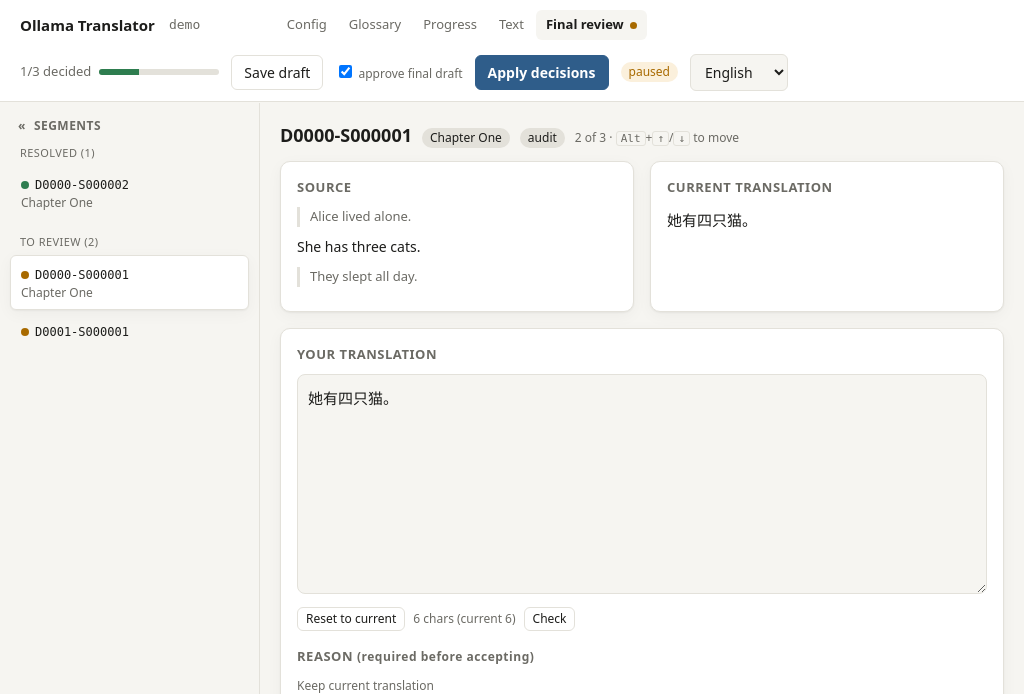
Test case: Final review tab › the queue › opens the segment picked in the sidebar and scrolls back to the top
Check: the heading "Your translation" is shown, box x1=297 y1=344 x2=437 y2=362
Click the button "D0001-S000001". click: (130, 330)
box: x1=10 y1=311 x2=249 y2=348
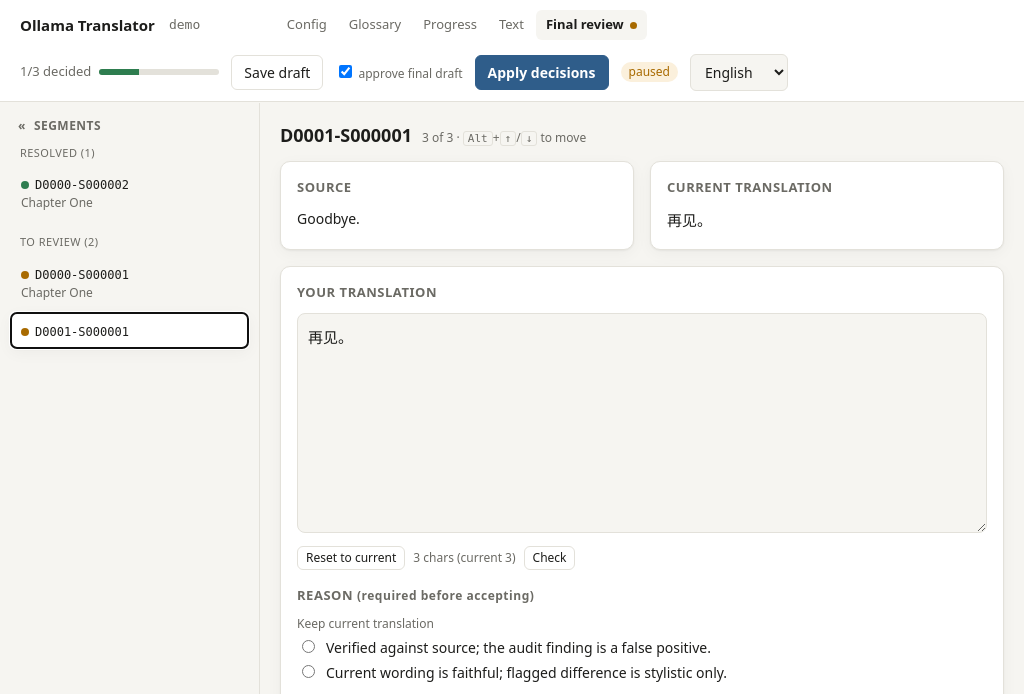
Check: the text "D0001-S000001" below "To review (2)" is shown, box x1=35 y1=324 x2=129 y2=338
Check: the text box holds "再见。", box x1=297 y1=313 x2=987 y2=533
Check: the element "Source" reads "Source Goodbye.", box x1=280 y1=160 x2=634 y2=250
